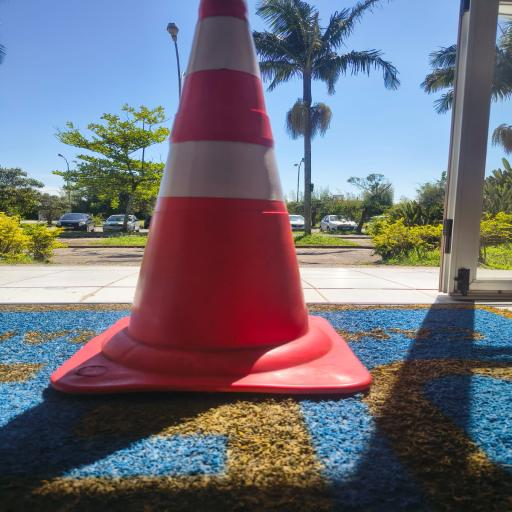cone: (100, 3, 347, 394)
